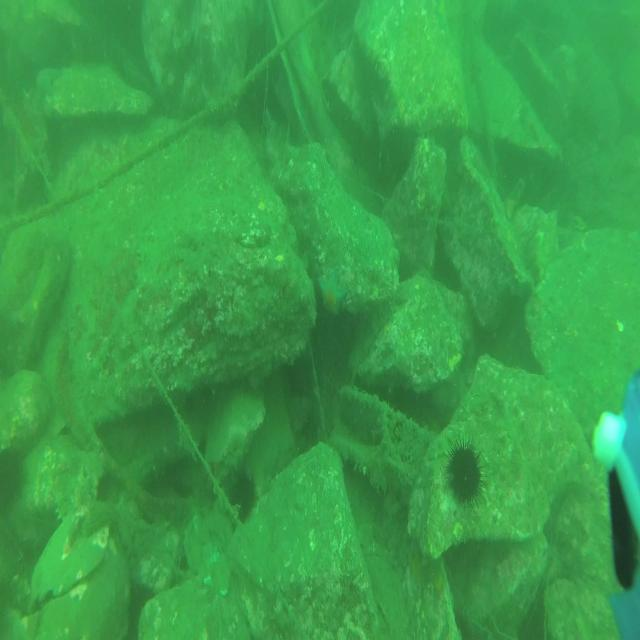echinus: (441, 437, 486, 511), (225, 470, 260, 524)
starfish: (314, 266, 351, 322)
